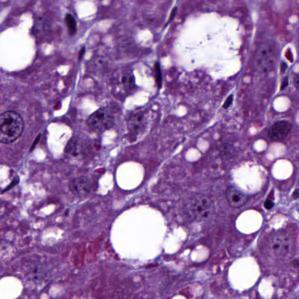ballooning: (169, 11, 249, 85)
